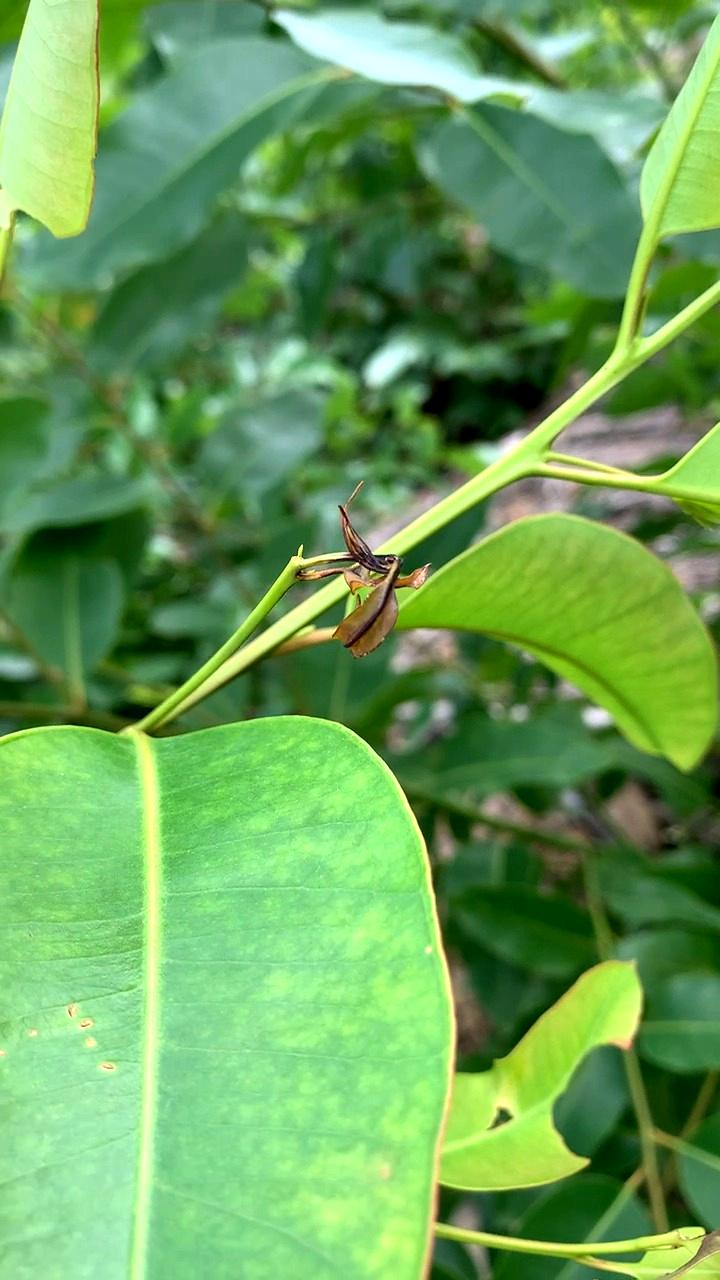Helopeltis-Withered Sprout: (300, 496, 439, 649)
